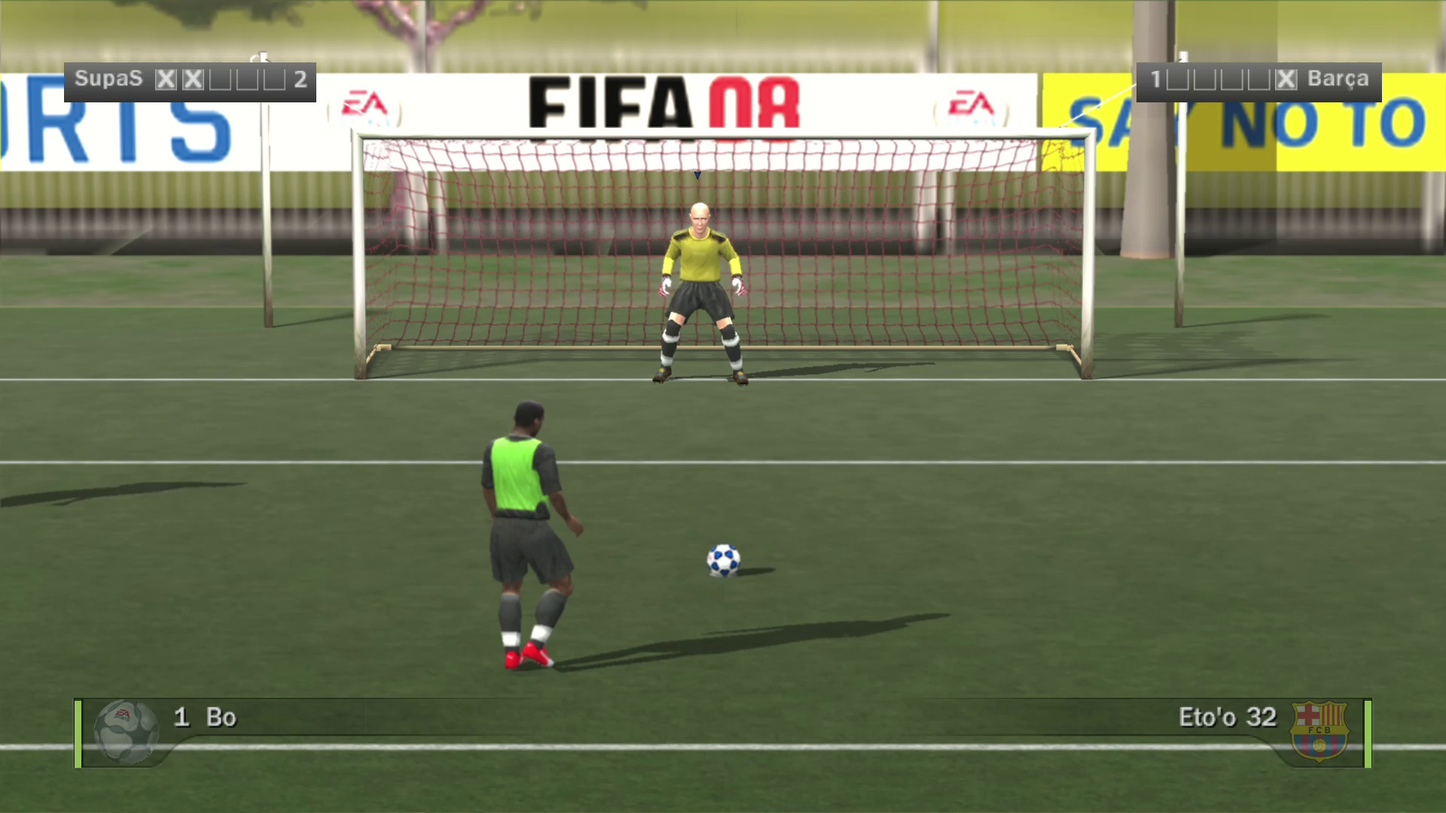ball: (688, 525, 724, 560)
goal_post: (1, 20, 725, 258)
keeper: (597, 108, 701, 294)
kicker: (425, 266, 533, 538)
